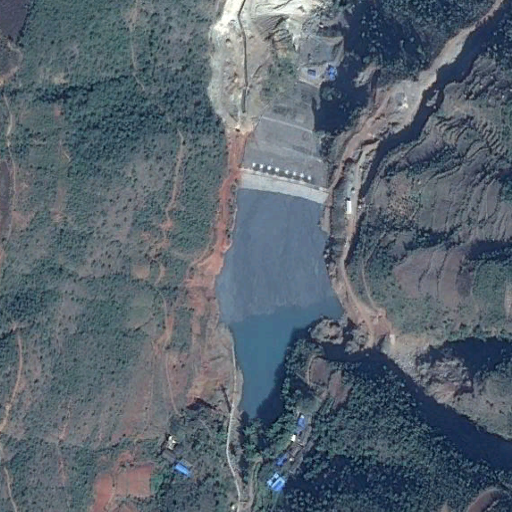tp: (216, 82, 344, 425)
